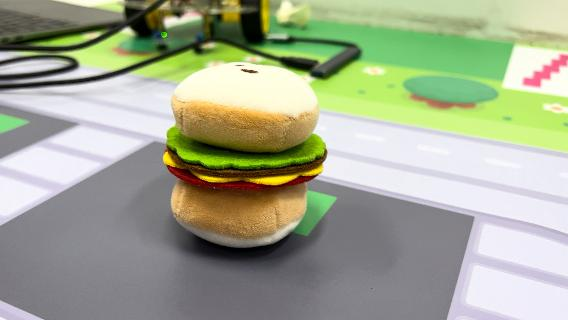sandwich: (162, 59, 330, 249)
